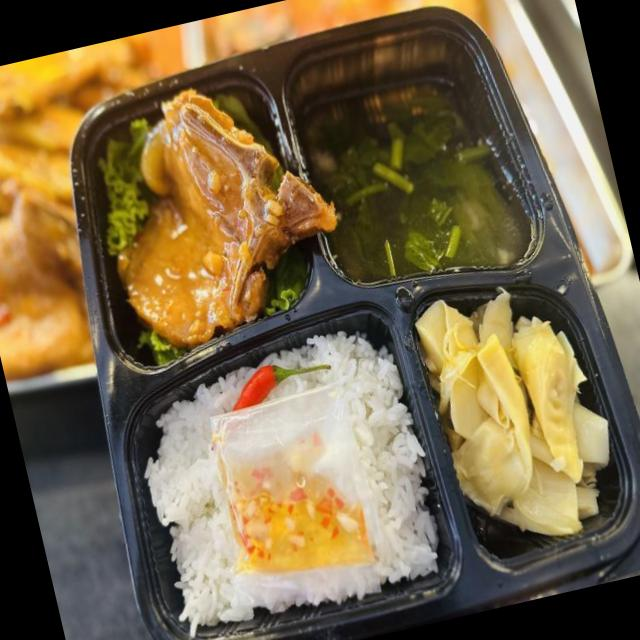canh cai: (296, 81, 531, 281)
com: (326, 331, 437, 586), (142, 383, 228, 599), (177, 557, 381, 638)
nuoc mam: (230, 476, 373, 572)
ot: (233, 364, 330, 408)
rau: (417, 292, 608, 535), (99, 117, 156, 257), (265, 248, 308, 313), (136, 328, 186, 365), (219, 96, 255, 130)
suon mieng: (115, 89, 339, 347)
